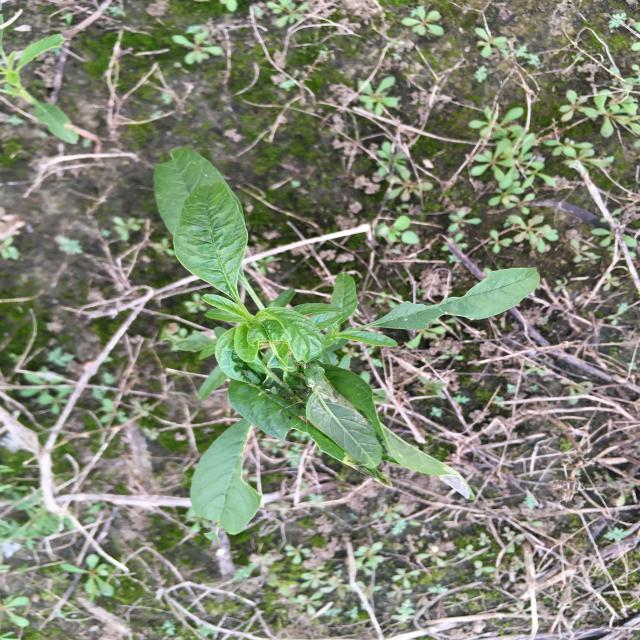Carpetweed: (464, 104, 559, 254), (546, 81, 638, 163), (369, 137, 436, 200), (351, 75, 400, 118)
Waterhemp: (151, 145, 544, 546)
